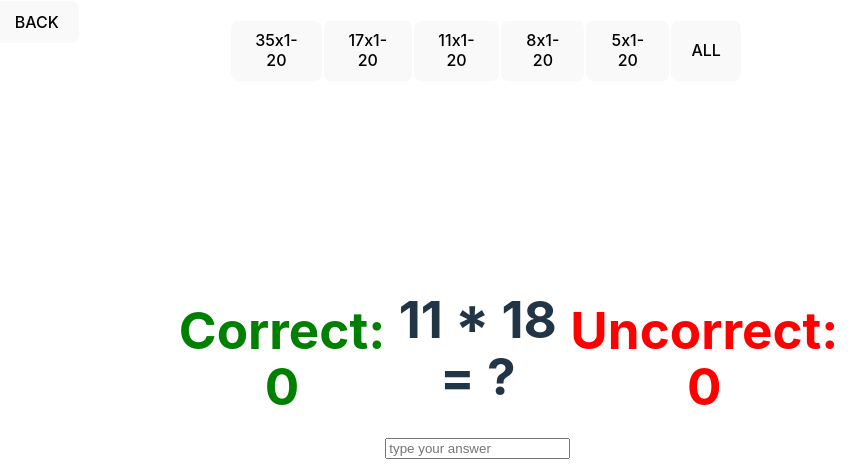
Test case: testing correct answer
Type "198" into the field with placeholder "type your answer" at (478, 449), box [385,438,570,459]
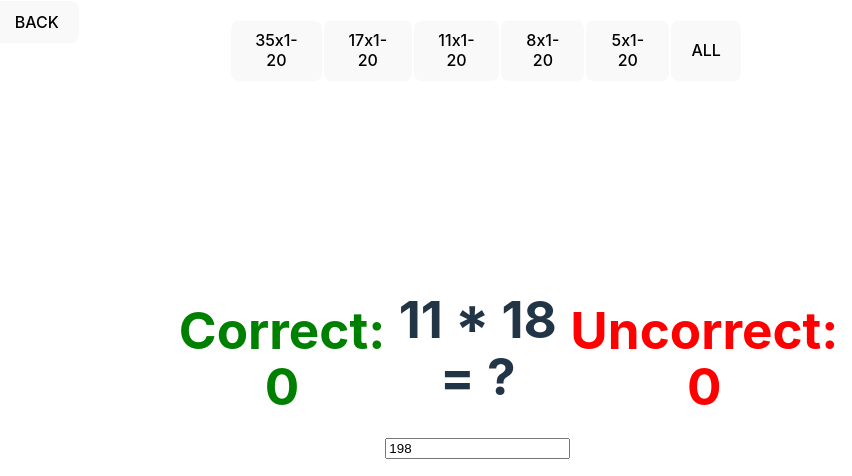
Press Enter in the field, box [385,438,570,459]
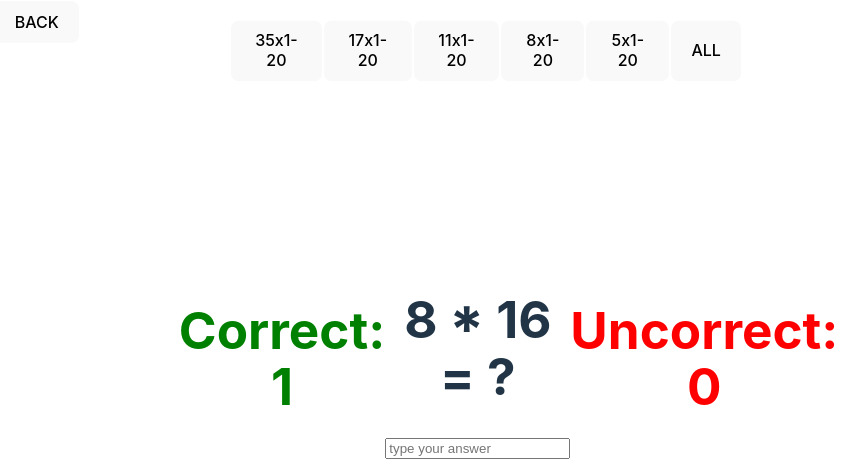
Check: the element with id "correctNoumber" reads "Correct: 1", box [179,267,385,449]
